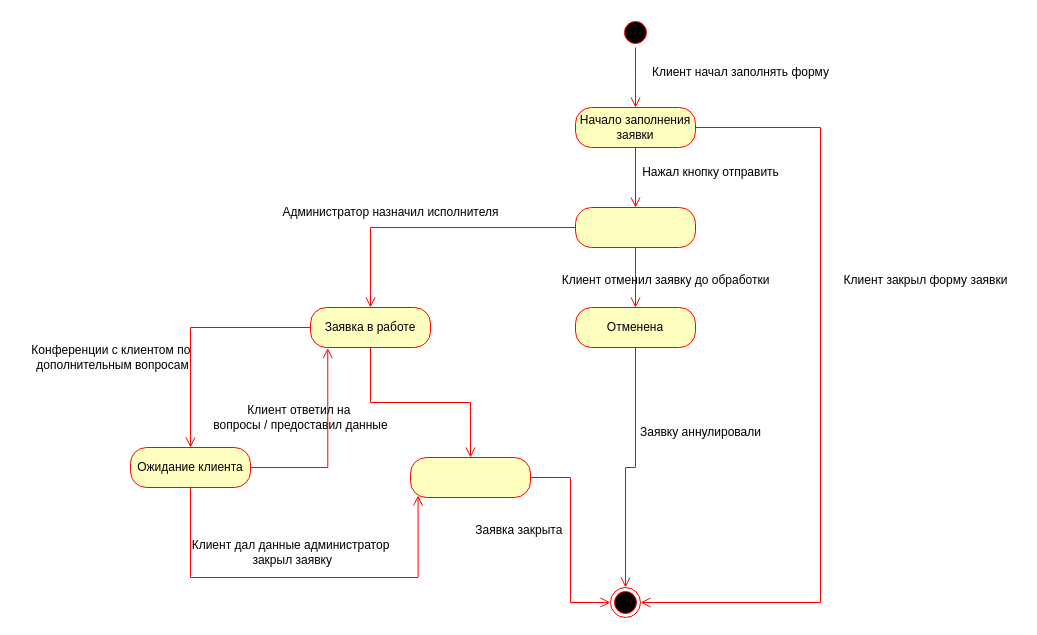
Some shapes in this 1037 by 635 pixel diagram are drawn without their labels. The centre of each missing label's shape, as x and y in pixels:
Закрыта: point 470,477
Новая заявка: point 635,227
